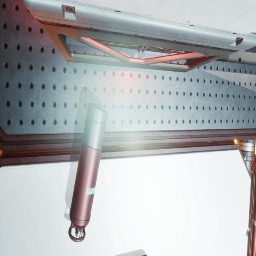NitrogenTank ,: (68, 103, 108, 242)
